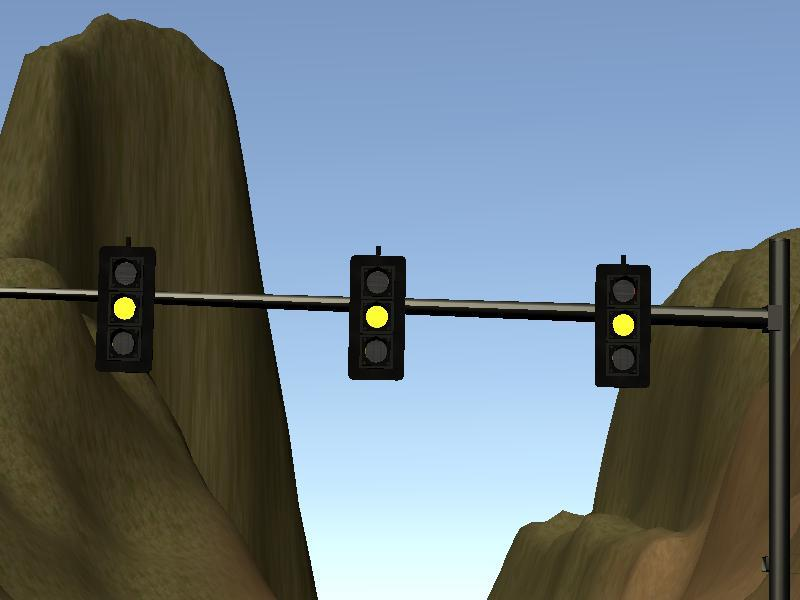Yellow: (100, 246, 152, 371), (350, 255, 402, 378), (596, 264, 648, 387)
